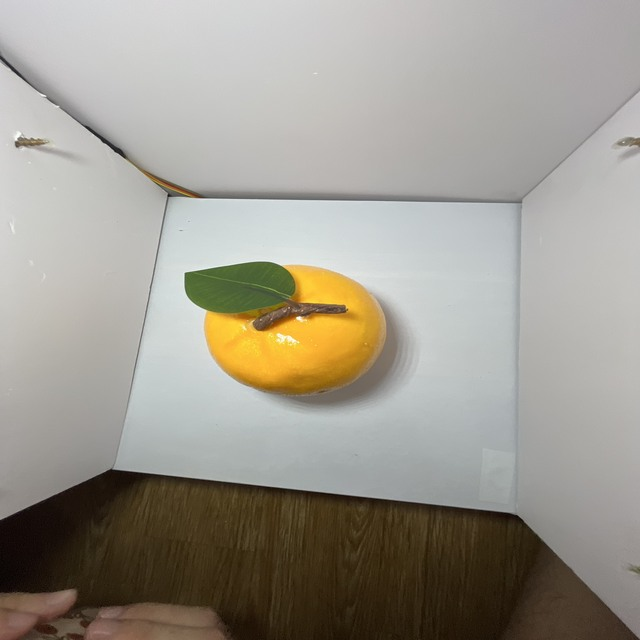Cam vang: (201, 260, 388, 400)
